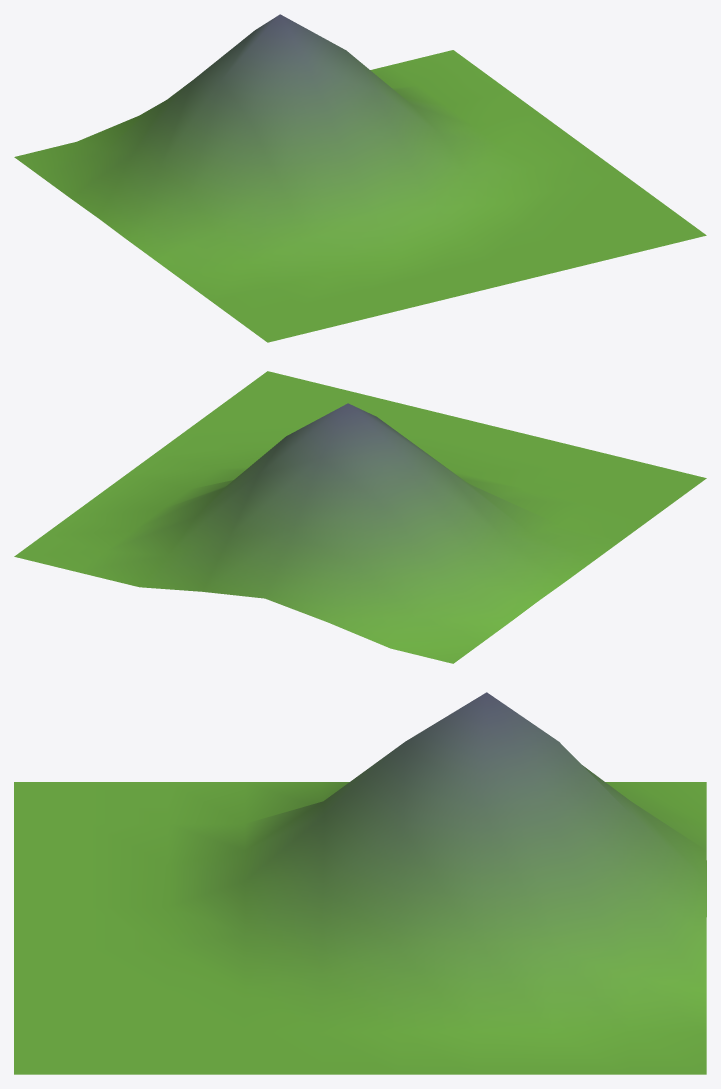
The model's file is Mountains_1.fbx.
The picture shows the model from 3 angles, top to bottom: view 1: azimuth 30°, elevation 25°; view 2: azimuth 150°, elevation 25°; view 3: azimuth 270°, elevation 25°; orthographic projection. The views are drawn at different scales.
Visible parts, largest first — view 1: Mountain_1; view 2: Mountain_1; view 3: Mountain_1.
Part boxes in pixels (box(x1,y1,x2,y2)): Mountain_1: box(14, 14, 706, 342); Mountain_1: box(14, 371, 706, 663); Mountain_1: box(14, 692, 706, 1074).
Bounding box in the file's own units: 2839 × 966 × 2840.
